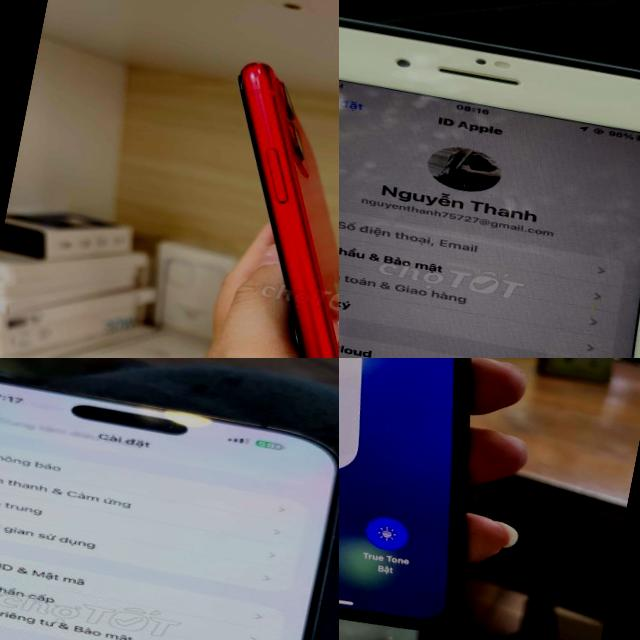gen_11: (339, 358, 548, 640)
gen_16: (0, 383, 339, 640)
gen_7_8: (339, 0, 640, 358)
scratch: (154, 56, 339, 358)
